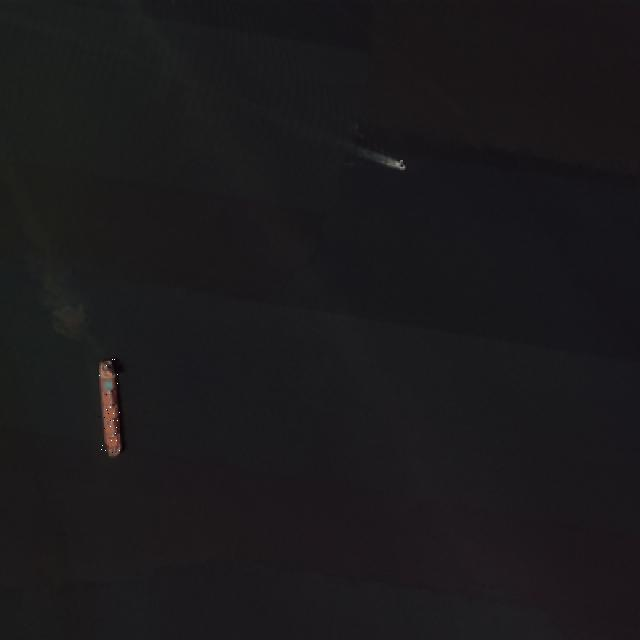boat: (98, 358, 120, 454), (399, 161, 404, 167)
